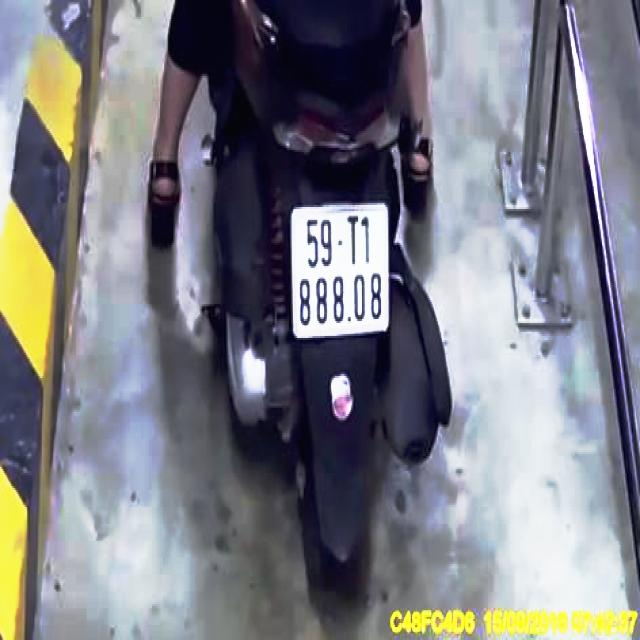license_plate: (293, 206, 389, 335)
